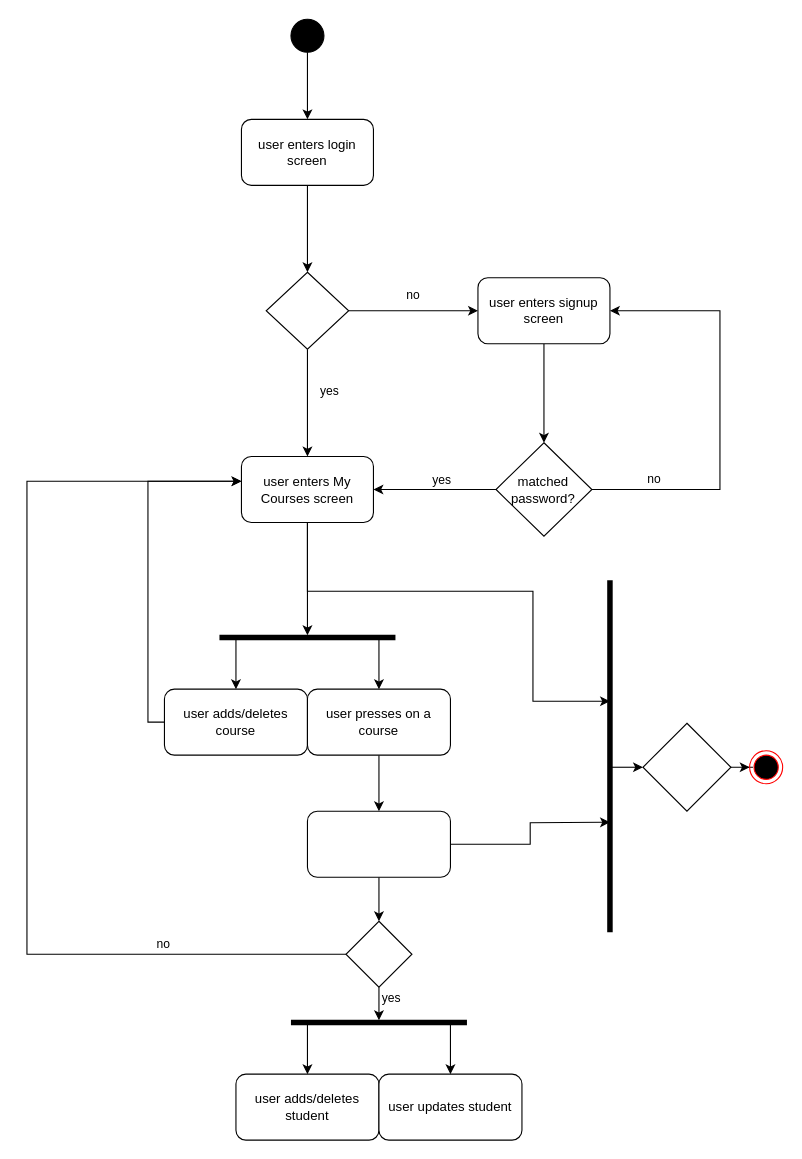
The diagram is 802 pixels wide and 1159 high, and some of its shapes have lost their labels. The centre of each missing label's shape, as x and y in pixels:
"continue?" belongs at pixel 378 953.
"has user?" belongs at pixel 307 310.
"logout" belongs at pixel 686 766.
"users enters course page" belongs at pixel 378 843.
